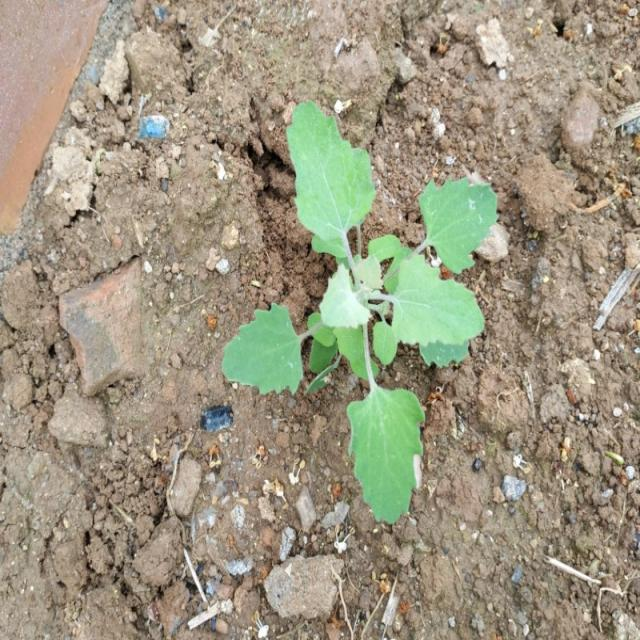ca: (284, 101, 500, 526)
